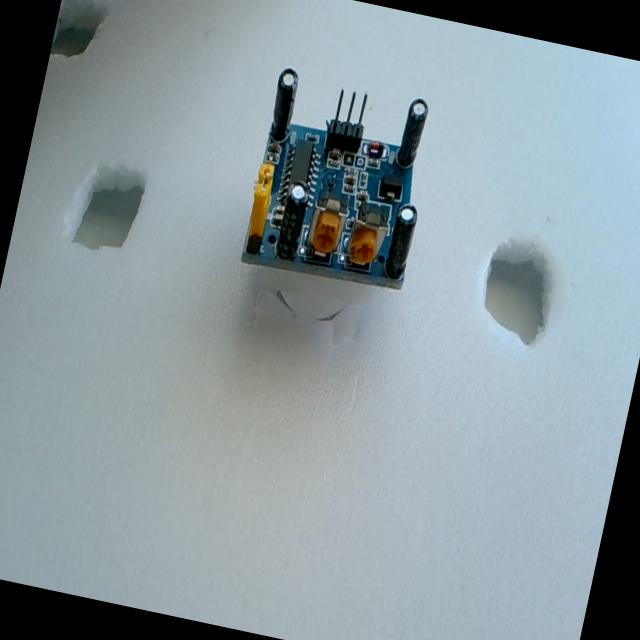Electrolytic capacitor: (382, 200, 420, 280), (265, 65, 302, 145), (274, 182, 311, 260), (394, 95, 430, 172)
IC: (273, 132, 331, 205)
pinheader: (322, 86, 371, 156)
